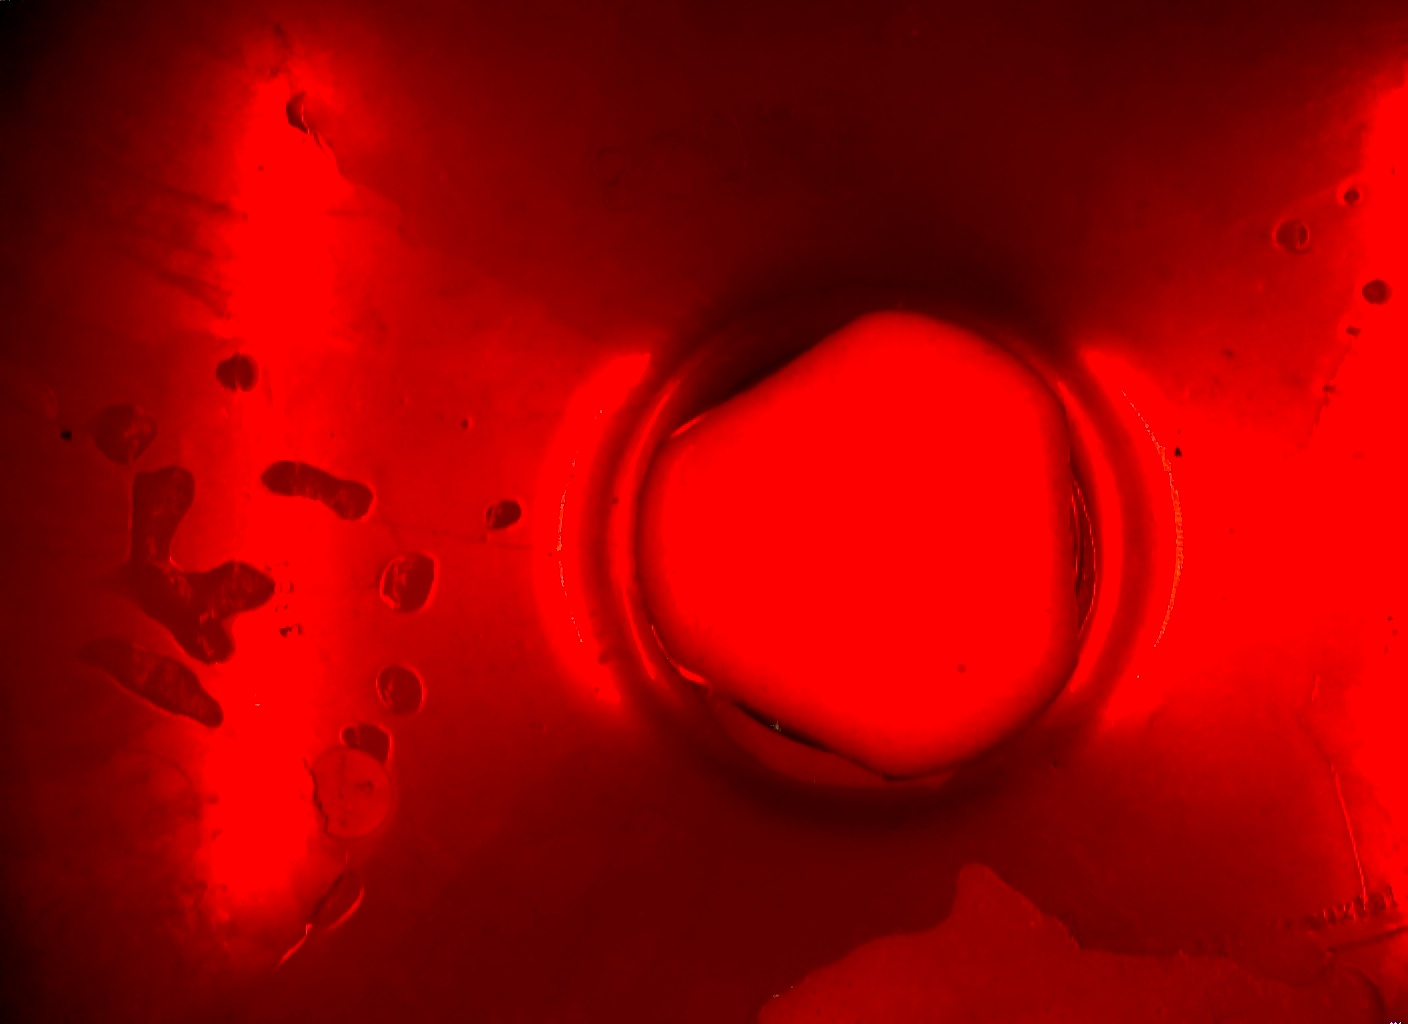pena: (736, 860, 1404, 1024), (87, 464, 275, 675), (67, 638, 228, 742), (253, 454, 390, 534), (375, 552, 462, 627), (368, 664, 421, 721)
shapka: (636, 308, 1098, 782)
